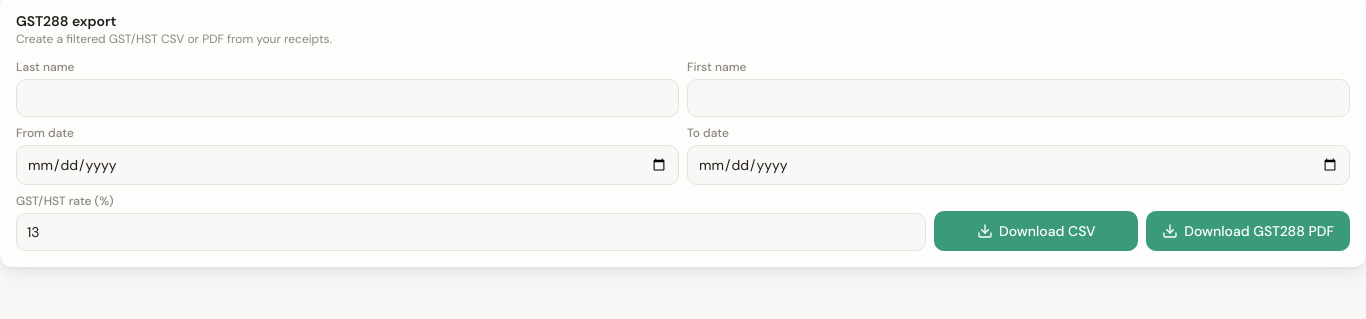
Test: Gst288ExportSection › passes claimant fields and complete receipts through the PDF action
The width and height of the screenshot is (1366, 319).
Type "Example" into the field named "GST288 last name" at (348,98), box [16, 79, 679, 117]
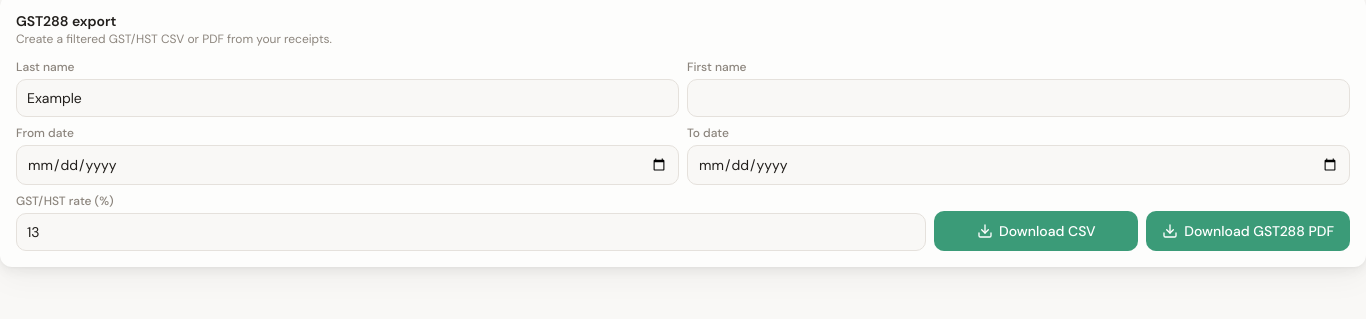
Type "Alex" into the field named "GST288 first name" at (1018,98), box [687, 79, 1350, 117]
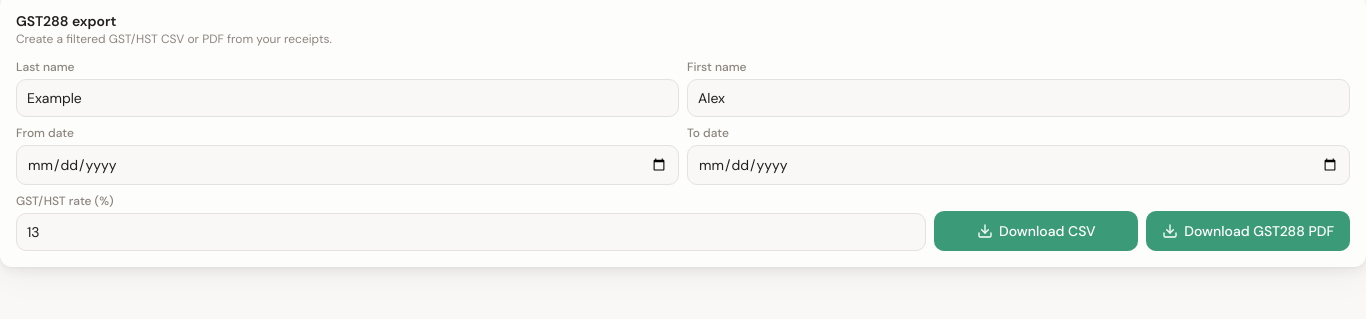
Click the button "Download GST288 PDF" at (1248,231), box [1146, 211, 1350, 251]
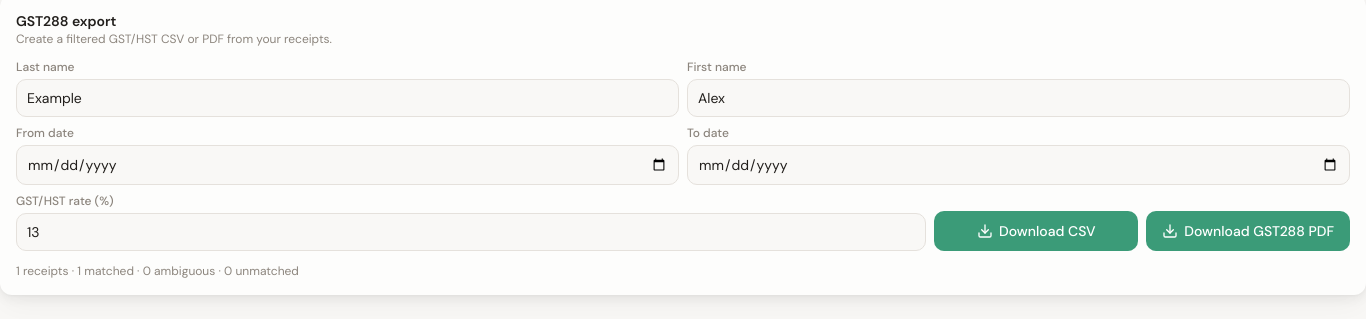
Expected: the message reads "1 receipts · 1 matched · 0 ambiguous · 0 unmatched", [16, 263, 299, 279]
